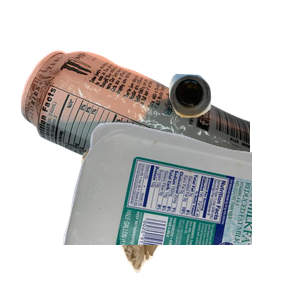glass: (166, 71, 300, 181)
metal: (18, 48, 258, 228)
plastic: (60, 120, 300, 300)
trash: (79, 123, 281, 300)
